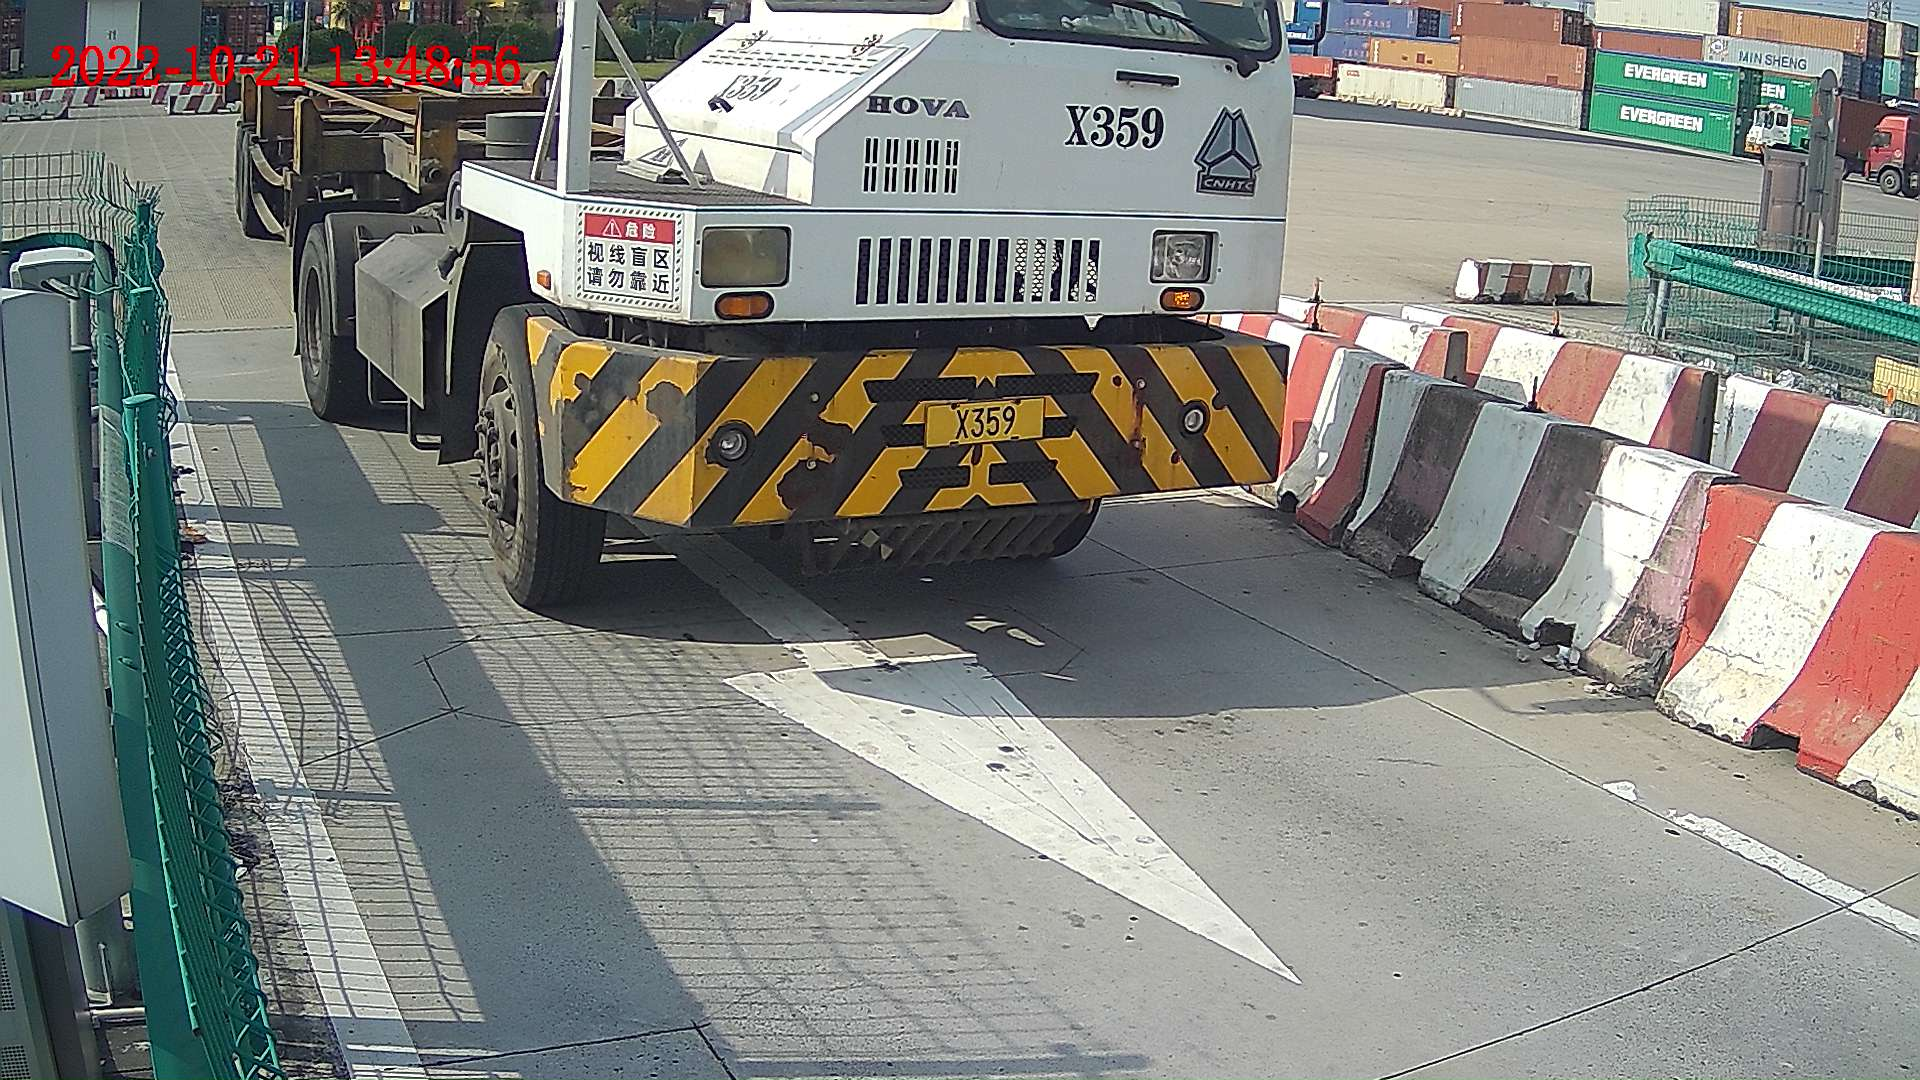head: (494, 1, 1300, 605)
plate: (929, 399, 1043, 447)
